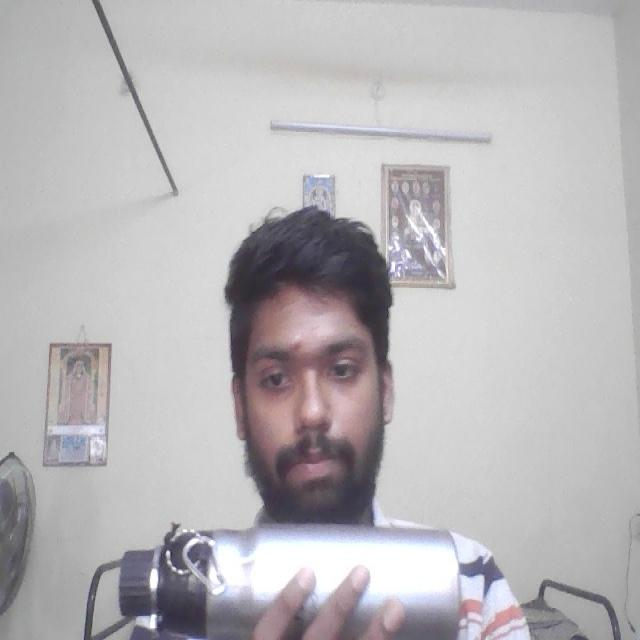Drinking: (114, 516, 467, 640)
